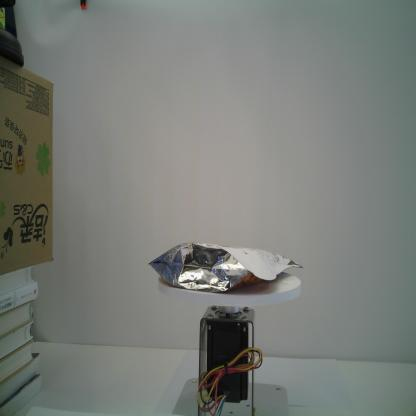Dried Fruit: (147, 242, 304, 293)
